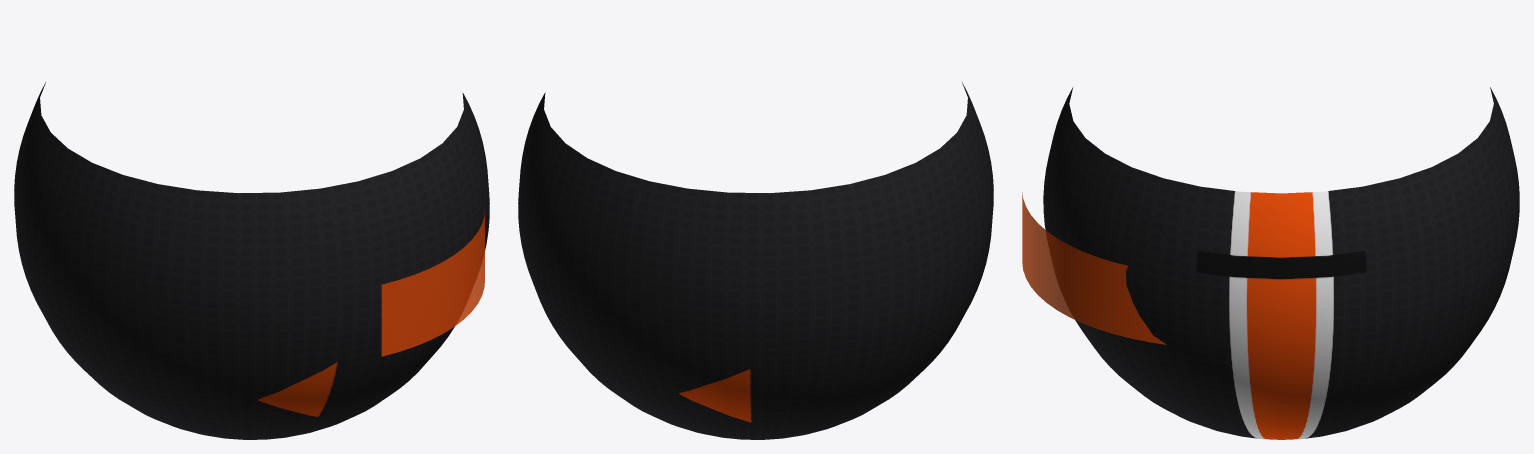
Rendered from helmet.glb.
3 views of the same model, side by side, from view 1: azimuth 30°, elevation 25°; view 2: azimuth 150°, elevation 25°; view 3: azimuth 270°, elevation 25° (orthographic).
Bounding box in the file's own units: 1.8 × 1.31 × 1.88.
Materials: 2 (1 with a texture image).
